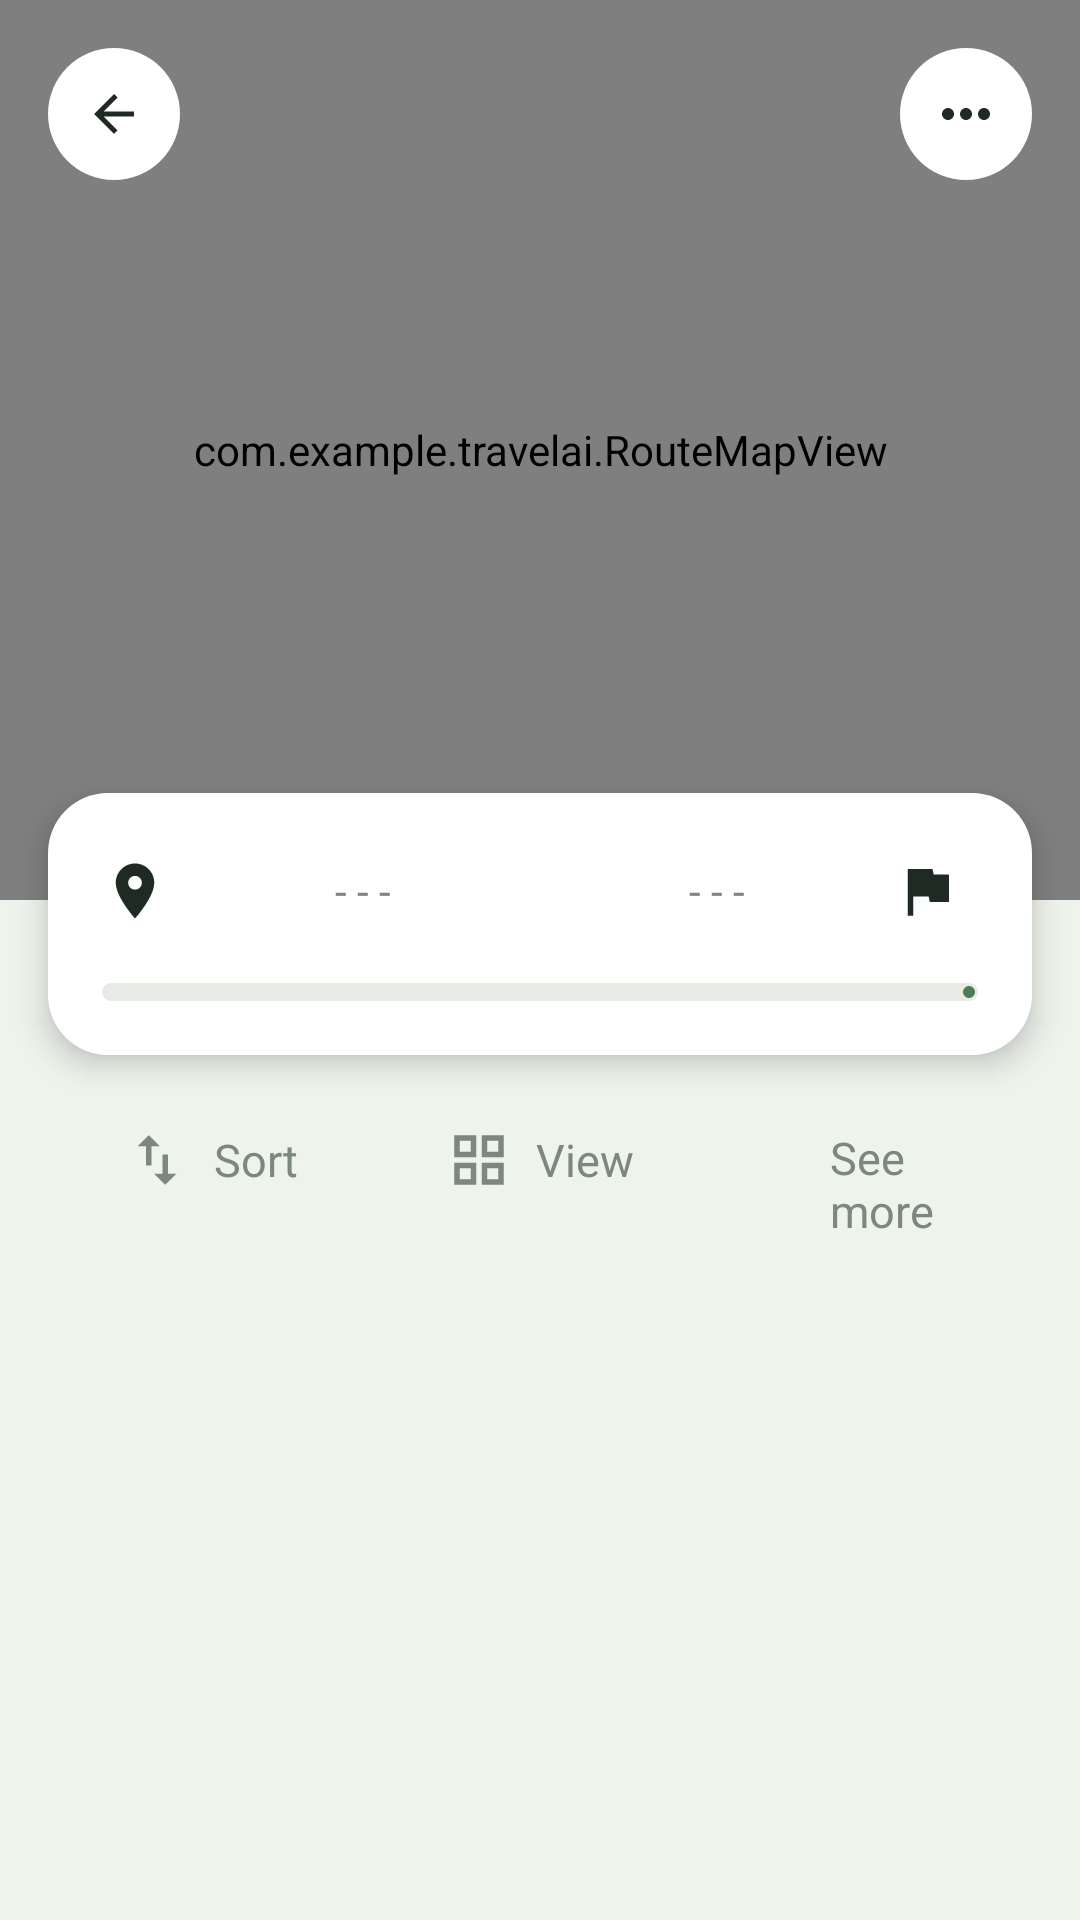

Icons on this 1080px×1920px Android screen, each with the point to tap as [x,y]:
back: [114,114]
flag: [928,892]
grid: [479,1160]
more: [966,114]
pin: [135,890]
